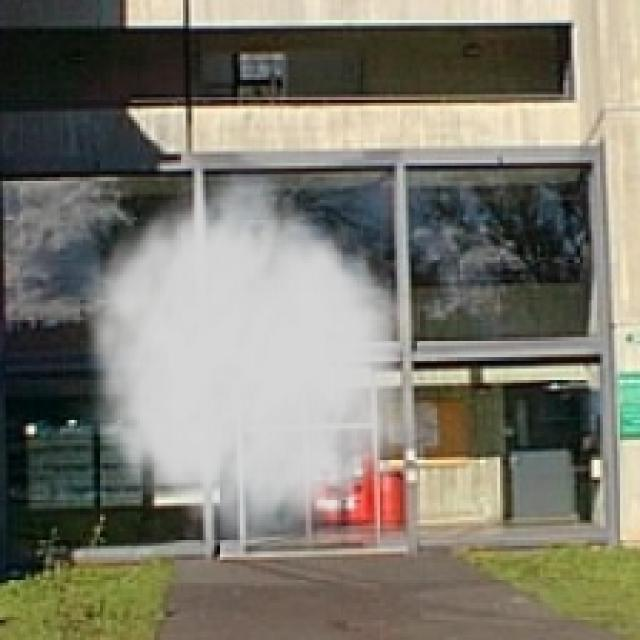Smoke: (66, 160, 420, 566)
